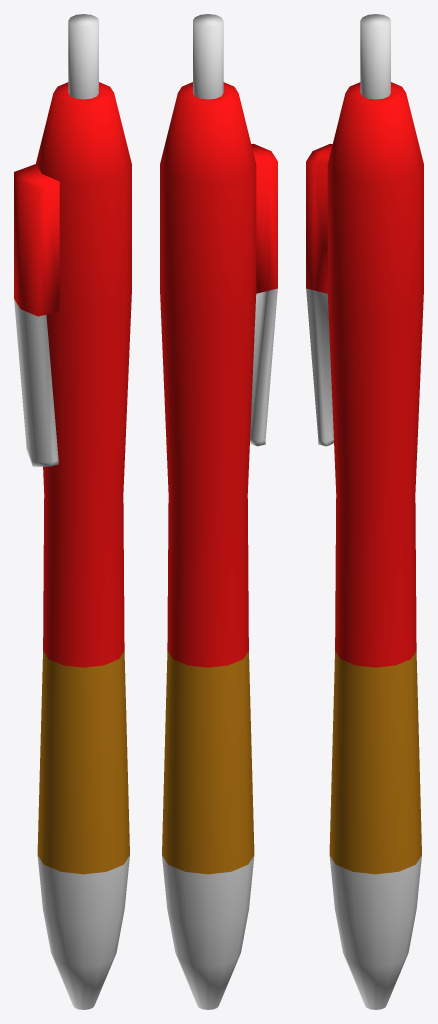
Rendered from pen_01.FBX.
The picture shows the model from 3 angles, left to right: view 1: azimuth 30°, elevation 25°; view 2: azimuth 210°, elevation 25°; view 3: azimuth 330°, elevation 25°; orthographic projection.
Parts seen in each view (by area): view 1: pen_01; view 2: pen_01; view 3: pen_01.
Part boxes in pixels (left/top/right/bottom): pen_01: left=14, top=14, right=131, bottom=1009; pen_01: left=160, top=14, right=277, bottom=1009; pen_01: left=306, top=14, right=423, bottom=1009.
Size of the model in its own units: 172 by 1542 by 136.
